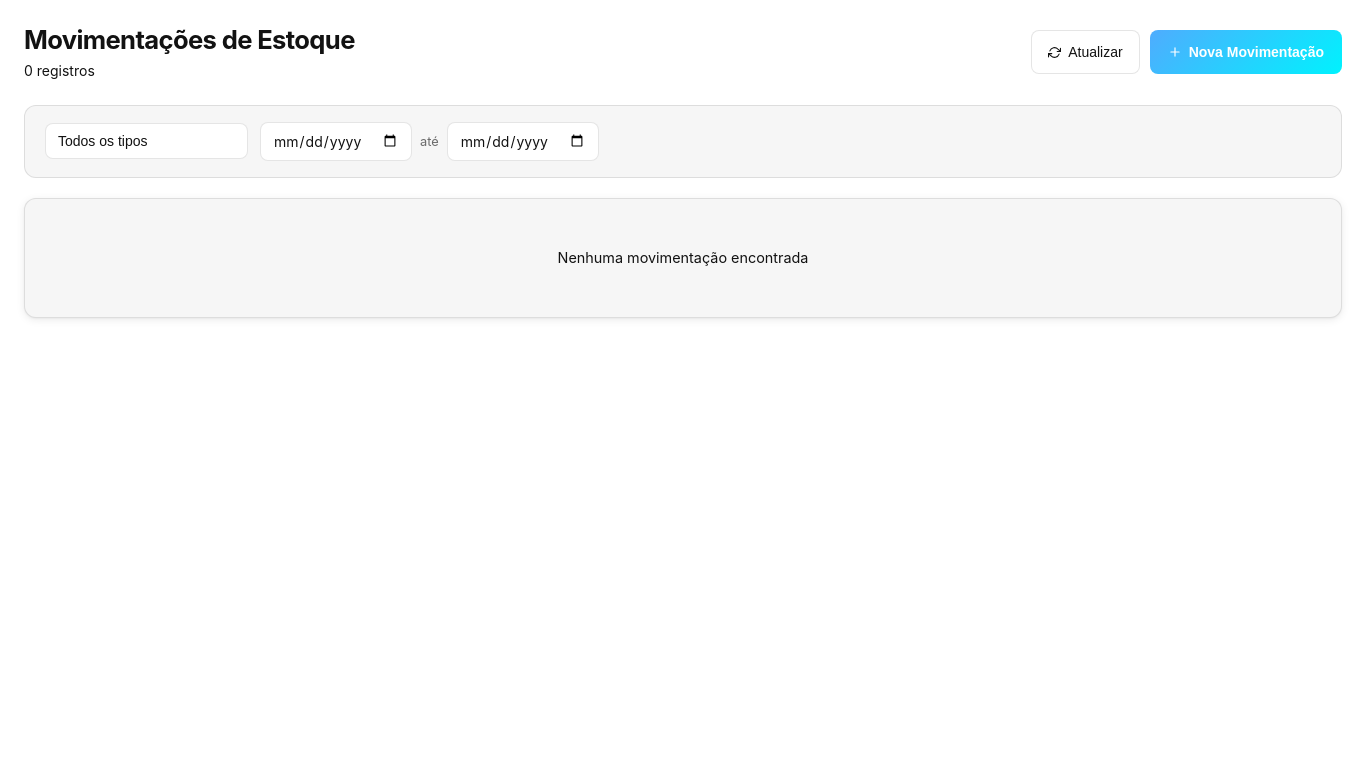
Test: seletor de lote na saida › o lote que vence primeiro vem pre-selecionado (FEFO como sugestao)
Click the button "Nova Movimentação" at (1246, 52), box x1=1150 y1=30 x2=1342 y2=74
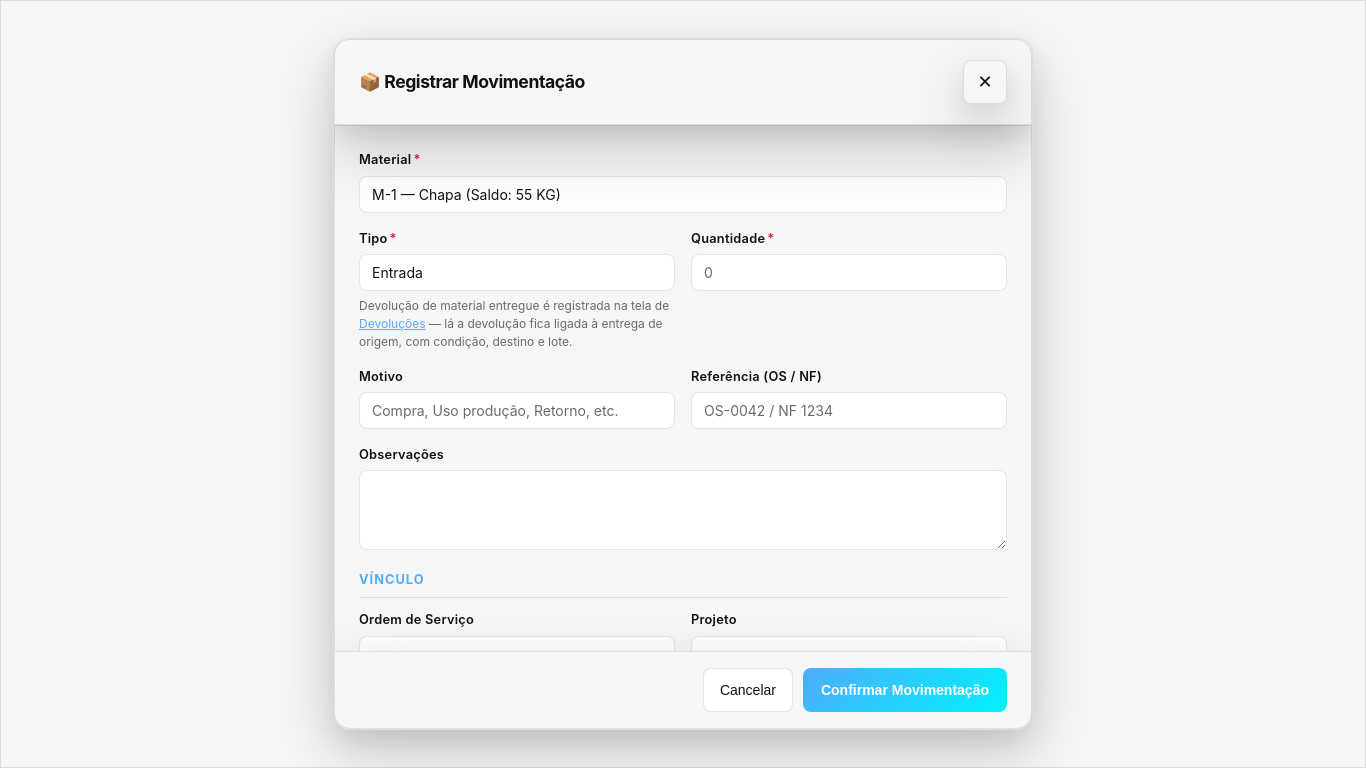
Select "M-1 — Chapa (Saldo: 55 KG)" in the 1st dropdown with class "almox-form-select" at (683, 194), box x1=359 y1=176 x2=1007 y2=213
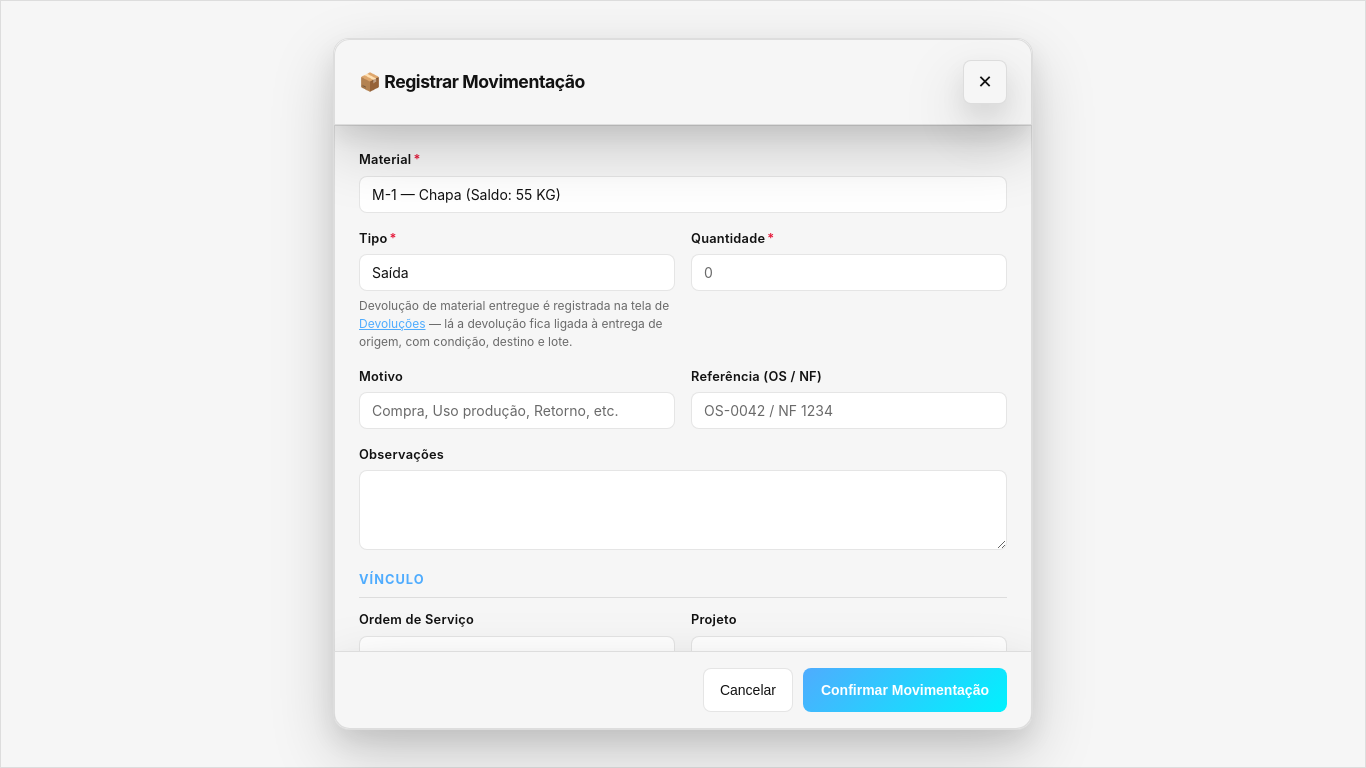
Select "Saída" in the dropdown with class "almox-form-select" below "Tipo" at (517, 272), box x1=359 y1=254 x2=675 y2=291
(page scrolled)
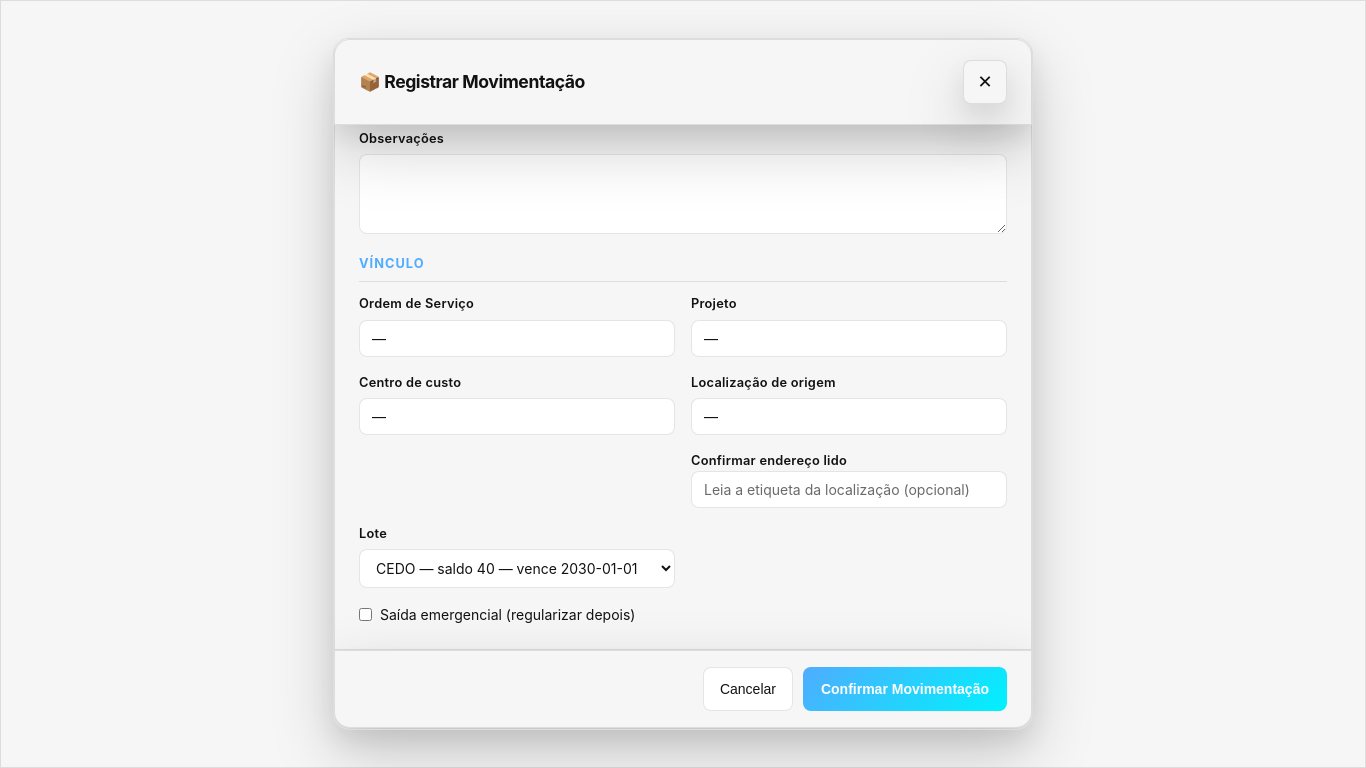
Now the dropdown with id "mov-lote" shows "CEDO — saldo 40 — vence 2030-01-01", box x1=359 y1=549 x2=675 y2=588
